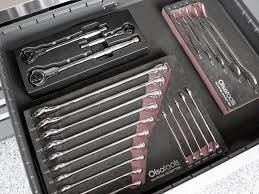wrench: (27, 34, 141, 87), (20, 24, 107, 63), (78, 22, 135, 48)
